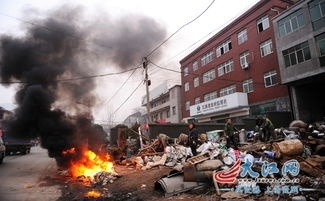fire: (66, 146, 115, 178)
